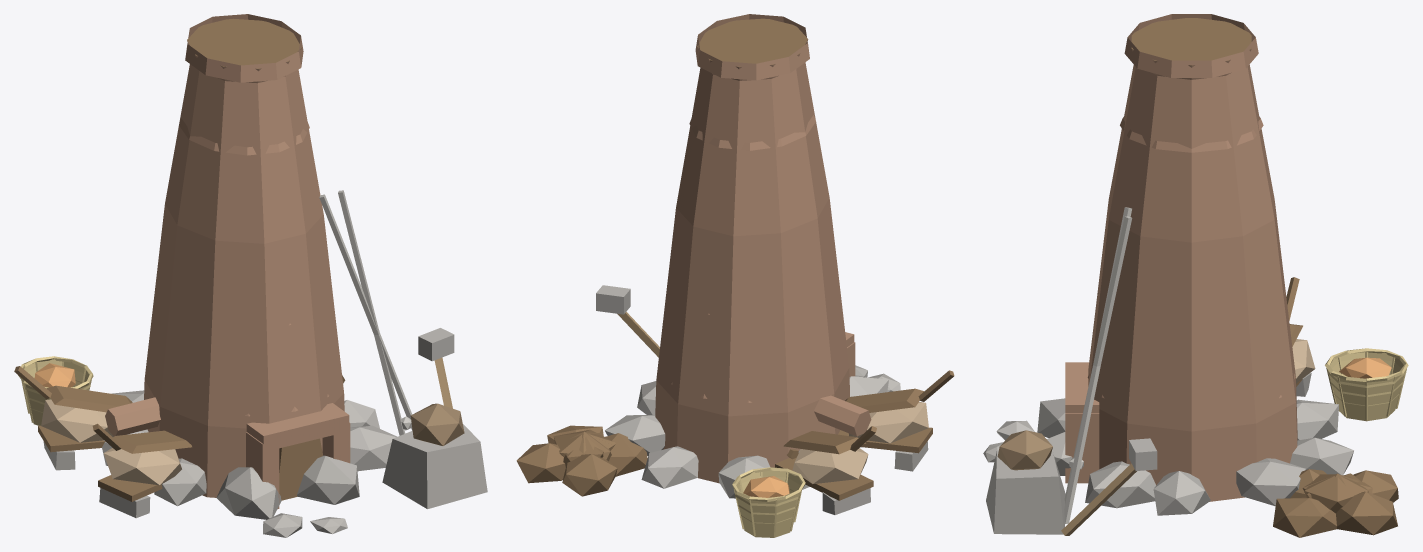
Rendered from building_bloomery_half.glb.
3 views of the same model, side by side, from view 1: azimuth 30°, elevation 25°; view 2: azimuth 150°, elevation 25°; view 3: azimuth 270°, elevation 25° (orthographic). The views are drawn at different scales.
Visible parts, largest first — view 1: building_bloomery_half; view 2: building_bloomery_half; view 3: building_bloomery_half.
Boxes of the visible parts, x1,y1,x2,y2 form: building_bloomery_half: [14, 14, 487, 537]; building_bloomery_half: [516, 14, 954, 537]; building_bloomery_half: [983, 14, 1408, 537].
Size of the model in its own units: 1 by 1.1 by 1.
